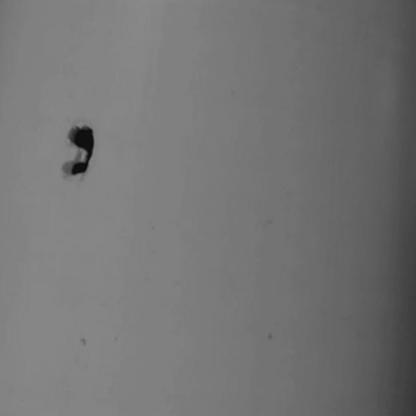kongdong: (47, 114, 110, 194)
